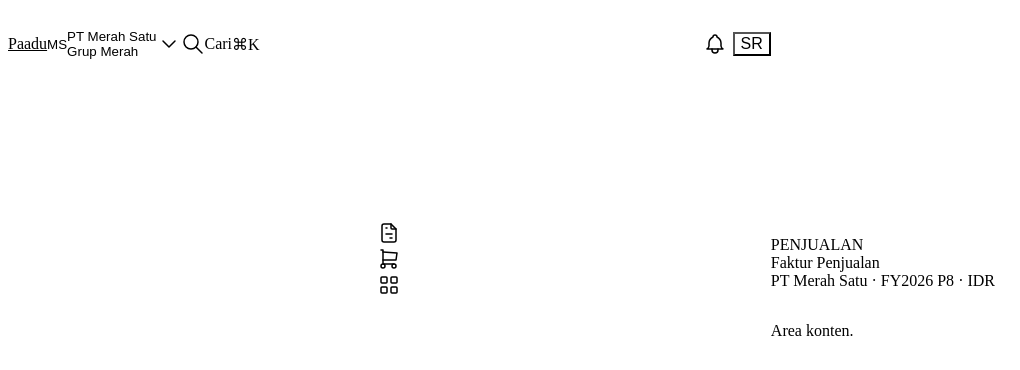
Test: mengklik English benar-benar mengganti teks di layar
What coordinates should you click on to do the following:
click the button "SR"
I would click on:
 (752, 44)
Its box is [733, 32, 771, 56].
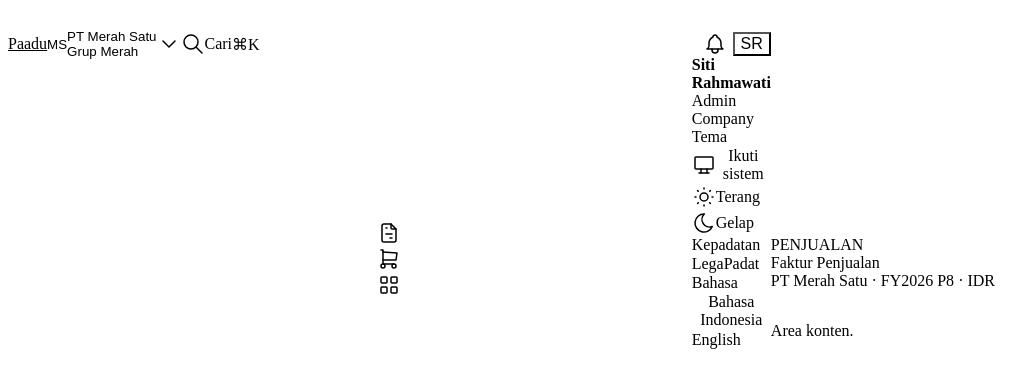
Expected: the navigation bar named "Modul" is shown, [371, 220, 407, 298]
What coordinates should you click on to do the following:
click the radio button labelled "English"
I would click on:
 (716, 340)
Its box is [692, 330, 741, 350].
(page scrolled)
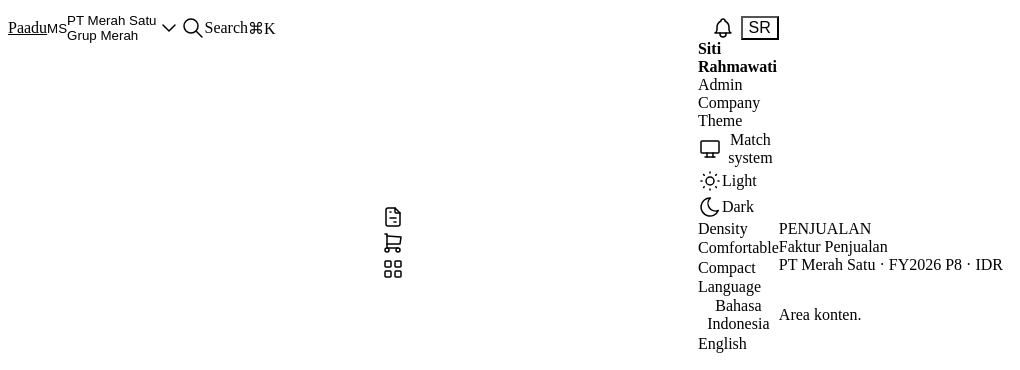
Now the navigation bar named "Modules" is shown, box [375, 204, 411, 282]
